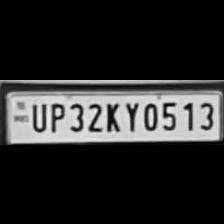0: (140, 99, 158, 131)
1: (179, 98, 195, 130)
2: (84, 98, 102, 132)
3: (196, 97, 216, 131), (66, 98, 84, 132)
5: (158, 98, 178, 132)
K: (102, 99, 120, 131)
P: (46, 100, 66, 132)
U: (28, 100, 46, 132)
Y: (122, 99, 140, 131)
